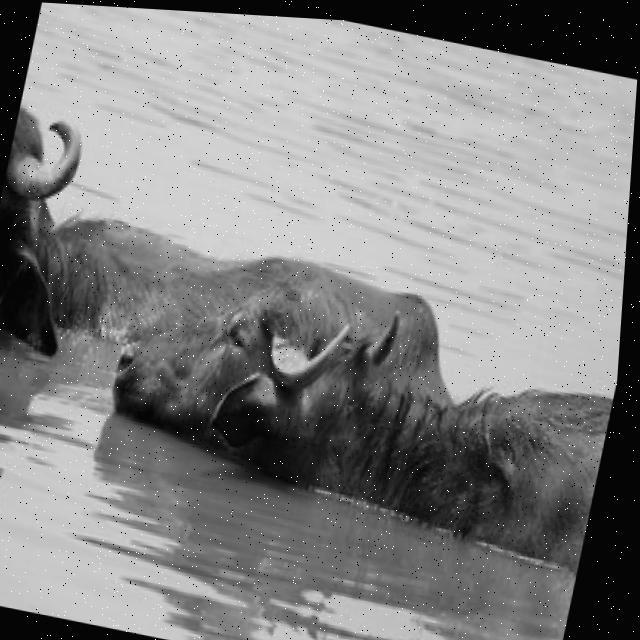Buffalo: (85, 229, 625, 572)
